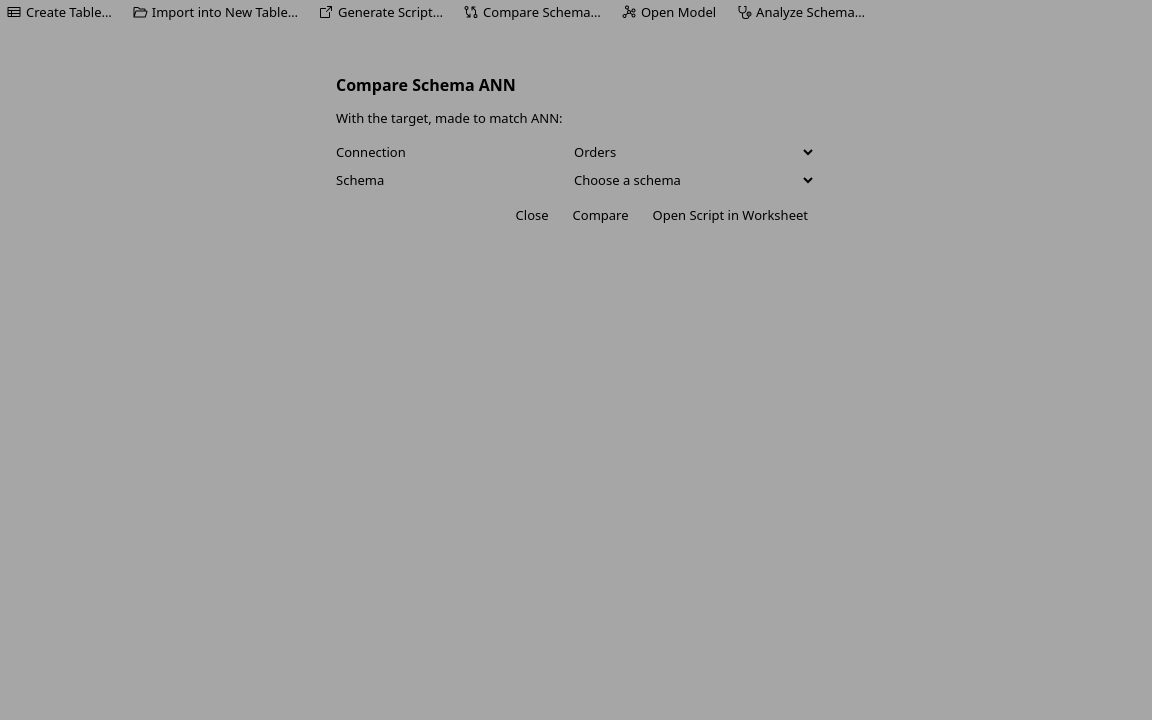
Test case: two schemas compared › lists the differences of the target from the source, and opens the script that makes it match [DESIGN] D47
Earlier steps of the test are not shown.
Later steps or results of the test are not shown.
Expected: the button "Compare" is disabled, [565,204,637,226]
Select "BOB" in the dropdown labelled "Schema" at (690, 180), box [564,168,816,192]
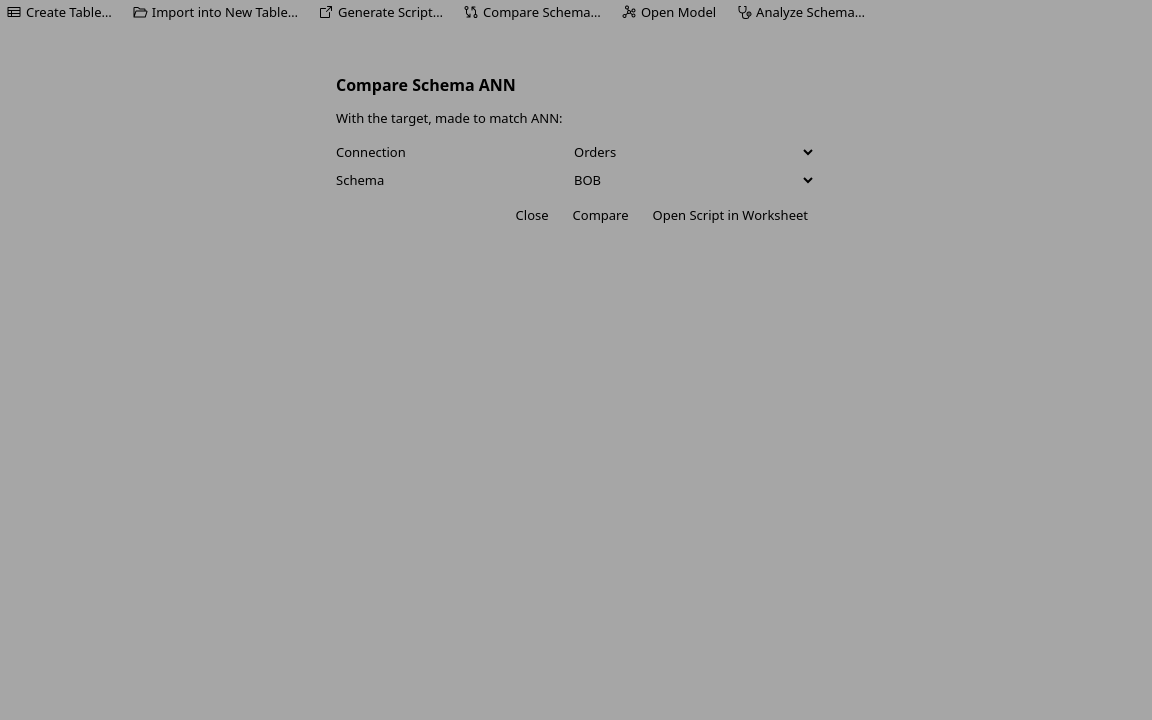
Click the button "Compare" at (601, 215), box [565,204,637,226]
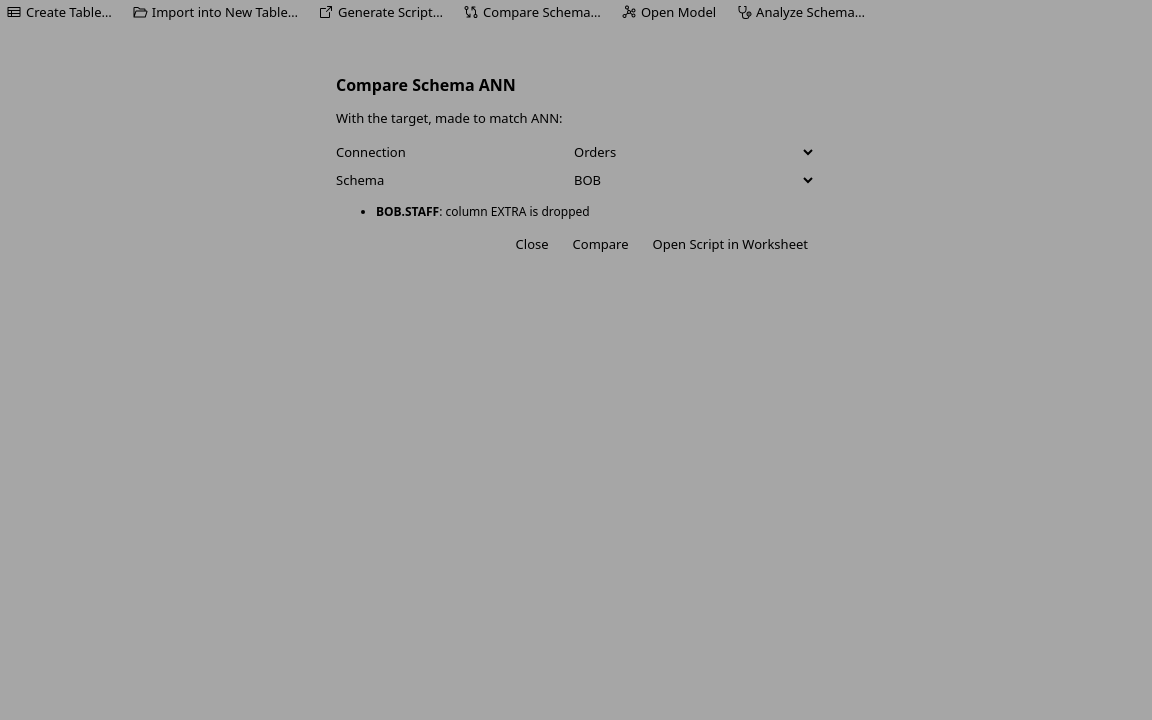
Result: the list item "BOB.STAFF: column EXTRA is dropped" is shown at [376,204,590,220]
Click the button "Open Script in Worksheet" at (730, 244), box [644,233,816,255]
Select "ANN" in the dropdown labelled "Schema" at (690, 180), box [564,168,816,192]
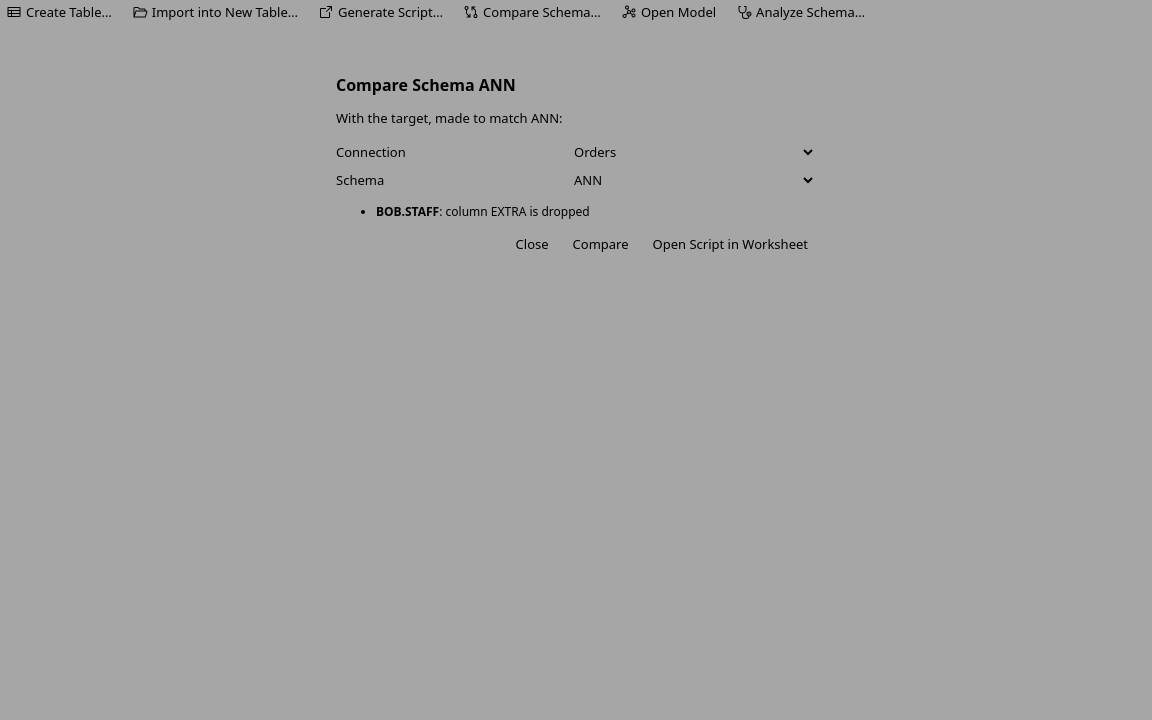
Click the button "Compare" at (601, 244), box [565,233,637,255]
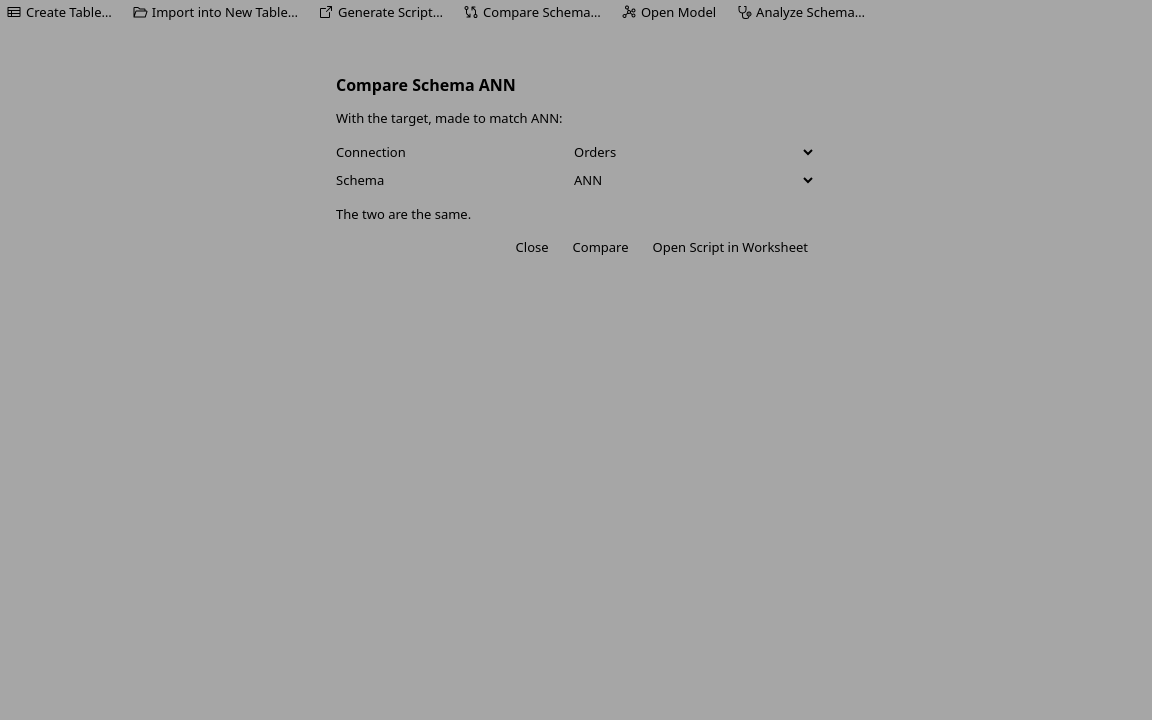
Result: the text "The two are the same." is shown at [336,205,471,223]
